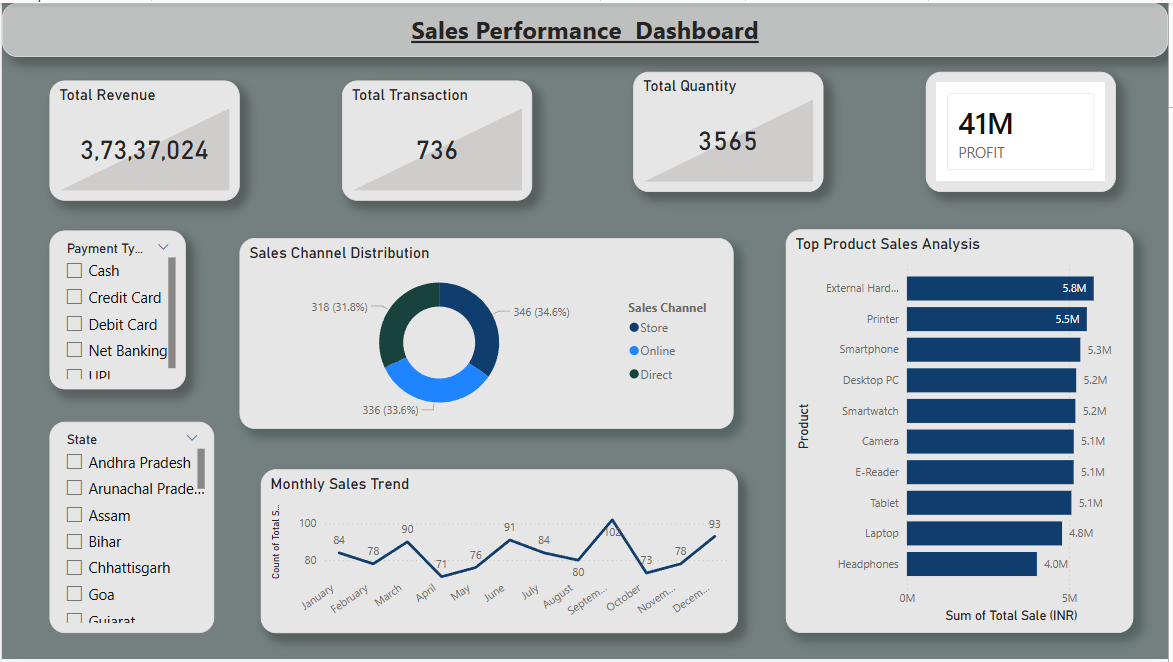

Layout of this report page (visuals, bound fields, positions):
{"tool":"powerbi","page":{"name":"Page 1","canvas":[1280,720],"ordinal":0},"visuals":[{"type":"kpi","title":"Total Quantity","fields":{"Indicator":["TechyStore Sales_Data.TQ"],"TrendLine":["TechyStore Sales_Data.Sales Date.Variation.Date Hierarchy.Year"]},"box":[693.4,75.5,208.6,131.7],"z":0},{"type":"kpi","title":"Total Transaction","fields":{"Indicator":["TechyStore Sales_Data.TT"],"TrendLine":["TechyStore Sales_Data.Sales Date.Variation.Date Hierarchy.Year"]},"box":[372.8,85.1,208.6,131.7],"z":1000},{"type":"kpi","title":"Total Revenue","fields":{"Indicator":["TechyStore Sales_Data.Total_Sales2"],"TrendLine":["TechyStore Sales_Data.Sales Date.Variation.Date Hierarchy.Year"]},"box":[52.1,85.1,208.6,131.7],"z":2000},{"type":"lineChart","title":"Monthly Sales Trend","fields":{"Y":["CountNonNull(TechyStore Sales_Data.Total Sale (INR))"],"Category":["TechyStore Sales_Data.Sales Date.Variation.Date Hierarchy.Month"]},"box":[284.7,511.8,524.2,179.8],"z":3000},{"type":"clusteredBarChart","title":"Top Product Sales Analysis","fields":{"Category":["TechyStore Sales_Data.Product"],"Y":["Sum(TechyStore Sales_Data.Total Sale (INR))"]},"box":[860.4,248.4,381.5,443.2],"z":4000},{"type":"donutChart","title":"Sales Channel Distribution","fields":{"Category":["TechyStore Sales_Data.Sales Channel"],"Y":["CountNonNull(TechyStore Sales_Data.Quantity)"]},"box":[260,258,542,209.9],"z":5000},{"type":"slicer","fields":{"Values":["TechyStore Sales_Data.State"]},"box":[52.1,459.7,181.1,231.9],"z":6000},{"type":"slicer","fields":{"Values":["TechyStore Sales_Data.Payment Type"]},"box":[52.1,249.7,149.6,174.3],"z":7000},{"type":"textbox","box":[0,0,1280.3,59],"z":8000},{"type":"cardVisual","fields":{"Data":["TechyStore Sales_Data.PROFIT"]},"box":[1014.1,75.5,208.6,131.7],"z":8001}]}

Visuals, with their boxes in screenshot pixels (x1, y1, x2, y2), scaled from the page's 1280x720 canvas onto the 1173x662 screenshot:
"Total Quantity" kpi: [635,69,827,191]
"Total Transaction" kpi: [342,78,533,199]
"Total Revenue" kpi: [48,78,239,199]
"Monthly Sales Trend" lineChart: [261,471,741,636]
"Top Product Sales Analysis" clusteredBarChart: [788,228,1138,636]
"Sales Channel Distribution" donutChart: [238,237,735,430]
slicer - TechyStore Sales_Data.State: [48,423,214,636]
slicer - TechyStore Sales_Data.Payment Type: [48,230,185,390]
textbox: [0,0,1172,54]
cardVisual - TechyStore Sales_Data.PROFIT: [929,69,1120,191]
